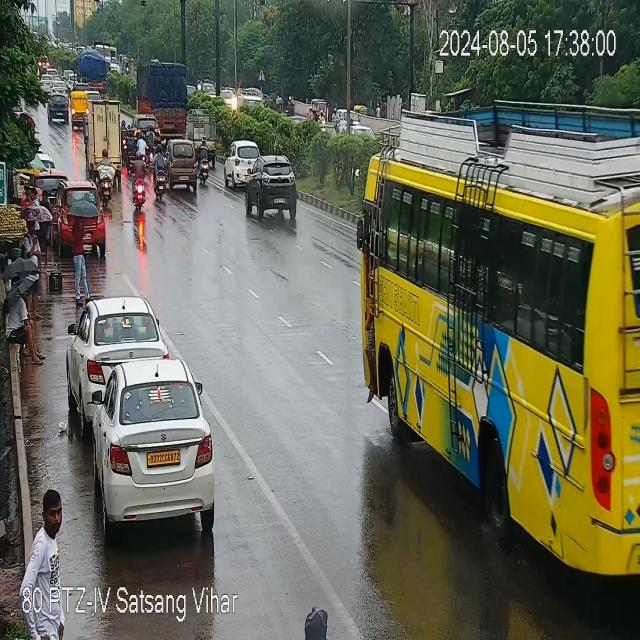2-wheelers: (76, 42, 110, 92), (92, 162, 115, 209), (153, 141, 171, 200), (46, 90, 69, 126), (198, 141, 214, 186), (131, 130, 148, 161)
auto: (53, 186, 107, 253), (243, 168, 301, 222), (165, 137, 201, 191), (70, 86, 92, 130)
bus: (351, 82, 633, 457)
car: (89, 364, 217, 533), (70, 296, 164, 404), (221, 140, 261, 190)
pedestrian: (3, 283, 47, 365), (19, 179, 50, 259), (43, 488, 65, 539)
truck: (80, 88, 128, 203)
